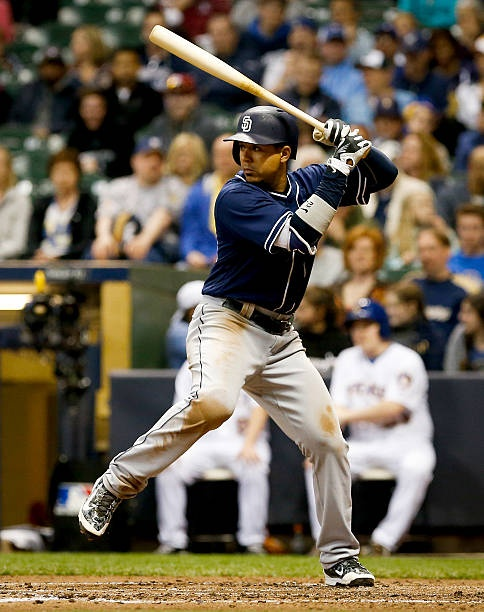bita: (152, 19, 337, 139)
